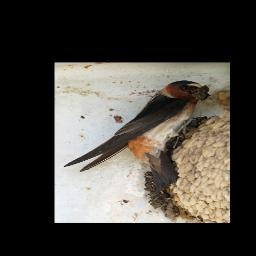Swallow: (62, 80, 210, 174)
